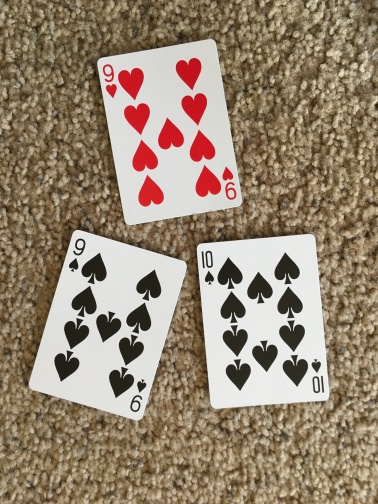nine: (27, 230, 186, 422), (95, 39, 245, 225)
ten: (196, 234, 333, 408)
